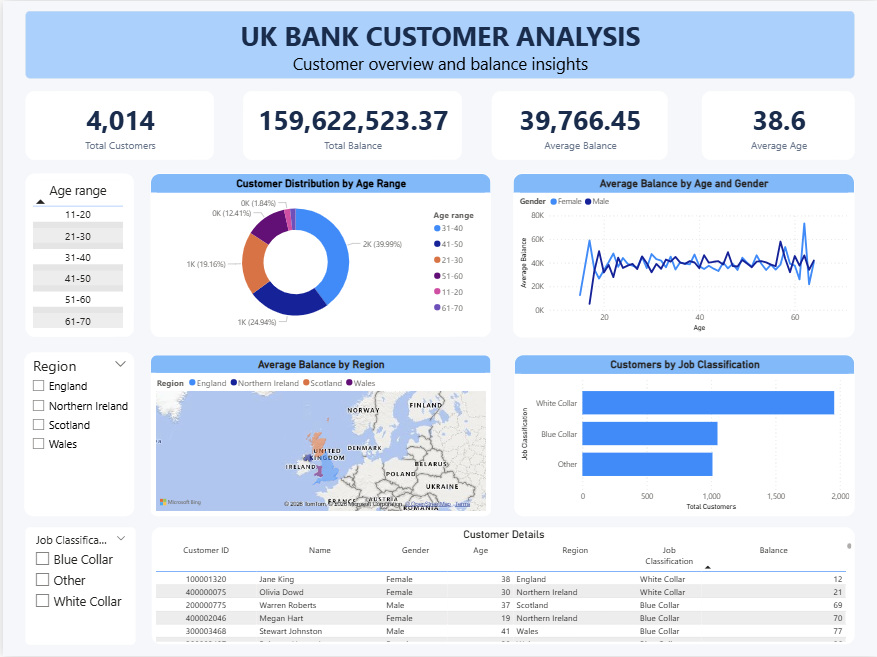

The page's visual inventory and layout, read from the dashboard file:
{"tool":"powerbi","page":{"name":"Page 1","canvas":[1400,1050],"ordinal":0},"visuals":[{"type":"lineChart","title":"Average Balance by Age and Gender","fields":{"Category":["P6-UK-Bank-Customers.Age"],"Series":["P6-UK-Bank-Customers.Gender"],"Y":["P6-UK-Bank-Customers.Average Balance"]},"box":[816,276,546,262],"z":0},{"type":"filledMap","title":"Average Balance by Region","fields":{"Category":["P6-UK-Bank-Customers.Region"],"Series":["P6-UK-Bank-Customers.Region"]},"box":[236.7,565,545,258.3],"z":1000},{"type":"donutChart","title":"Customer Distribution by Age Range","fields":{"Y":["P6-UK-Bank-Customers.Total Customers"],"Category":["P6-UK-Bank-Customers.Age range"]},"box":[236.7,276.7,545,261.7],"z":2000},{"type":"card","title":"Total Customers","fields":{"Values":["P6-UK-Bank-Customers.Total Customers"]},"box":[36.7,143.3,301.7,110],"z":3000},{"type":"card","fields":{"Values":["P6-UK-Bank-Customers.Total Balance"]},"box":[383.3,143.3,350,110],"z":4000},{"type":"card","fields":{"Values":["P6-UK-Bank-Customers.Average Age"]},"box":[1118.3,143.3,245,110],"z":5000},{"type":"card","fields":{"Values":["P6-UK-Bank-Customers.Average Balance"]},"box":[781.7,143.3,281.7,110],"z":6000},{"type":"textbox","box":[36,16,1326,108],"z":7000},{"type":"clusteredBarChart","title":"Customers by Job Classification","fields":{"Category":["P6-UK-Bank-Customers.Job Classification"],"Y":["P6-UK-Bank-Customers.Total Customers"]},"box":[818.3,565,545,258.3],"z":8000},{"type":"tableEx","title":"Customer Details","fields":{"Values":["P6-UK-Bank-Customers.Customer ID","P6-UK-Bank-Customers.Name","P6-UK-Bank-Customers.Gender","P6-UK-Bank-Customers.Age","P6-UK-Bank-Customers.Region","P6-UK-Bank-Customers.Job Classification","P6-UK-Bank-Customers.Balance"]},"box":[237.5,842.5,1125,187.5],"z":9000},{"type":"slicer","fields":{"Values":["P6-UK-Bank-Customers.Region"]},"box":[34,562,176,262],"z":10000},{"type":"slicer","fields":{"Values":["P6-UK-Bank-Customers.Job Classification"]},"box":[36,842,176,188],"z":11000},{"type":"tableEx","fields":{"Values":["P6-UK-Bank-Customers.Age range"]},"box":[36.7,276.7,173.3,261.7],"z":12000}]}

Visuals, with their boxes in screenshot pixels (x1, y1, x2, y2), scaled from the page's 1400x1050 canvas onto the 877x657 screenshot:
"Average Balance by Age and Gender" lineChart: {"left": 511, "top": 173, "right": 853, "bottom": 337}
"Average Balance by Region" filledMap: {"left": 148, "top": 354, "right": 490, "bottom": 515}
"Customer Distribution by Age Range" donutChart: {"left": 148, "top": 173, "right": 490, "bottom": 337}
"Total Customers" card: {"left": 23, "top": 90, "right": 212, "bottom": 158}
card - P6-UK-Bank-Customers.Total Balance: {"left": 240, "top": 90, "right": 459, "bottom": 158}
card - P6-UK-Bank-Customers.Average Age: {"left": 701, "top": 90, "right": 854, "bottom": 158}
card - P6-UK-Bank-Customers.Average Balance: {"left": 490, "top": 90, "right": 666, "bottom": 158}
textbox: {"left": 23, "top": 10, "right": 853, "bottom": 78}
"Customers by Job Classification" clusteredBarChart: {"left": 513, "top": 354, "right": 854, "bottom": 515}
"Customer Details" tableEx: {"left": 149, "top": 527, "right": 854, "bottom": 644}
slicer - P6-UK-Bank-Customers.Region: {"left": 21, "top": 352, "right": 132, "bottom": 516}
slicer - P6-UK-Bank-Customers.Job Classification: {"left": 23, "top": 527, "right": 133, "bottom": 644}
tableEx - P6-UK-Bank-Customers.Age range: {"left": 23, "top": 173, "right": 132, "bottom": 337}
